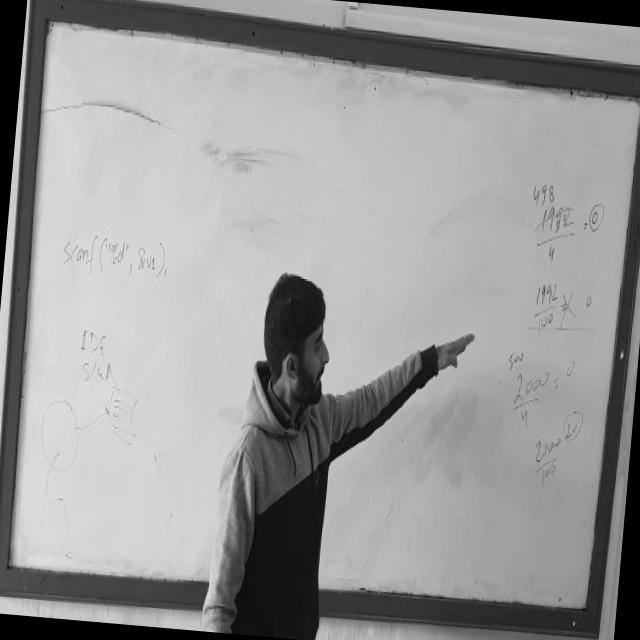Instructor: (195, 253, 369, 640)
White-board: (0, 0, 640, 628)
